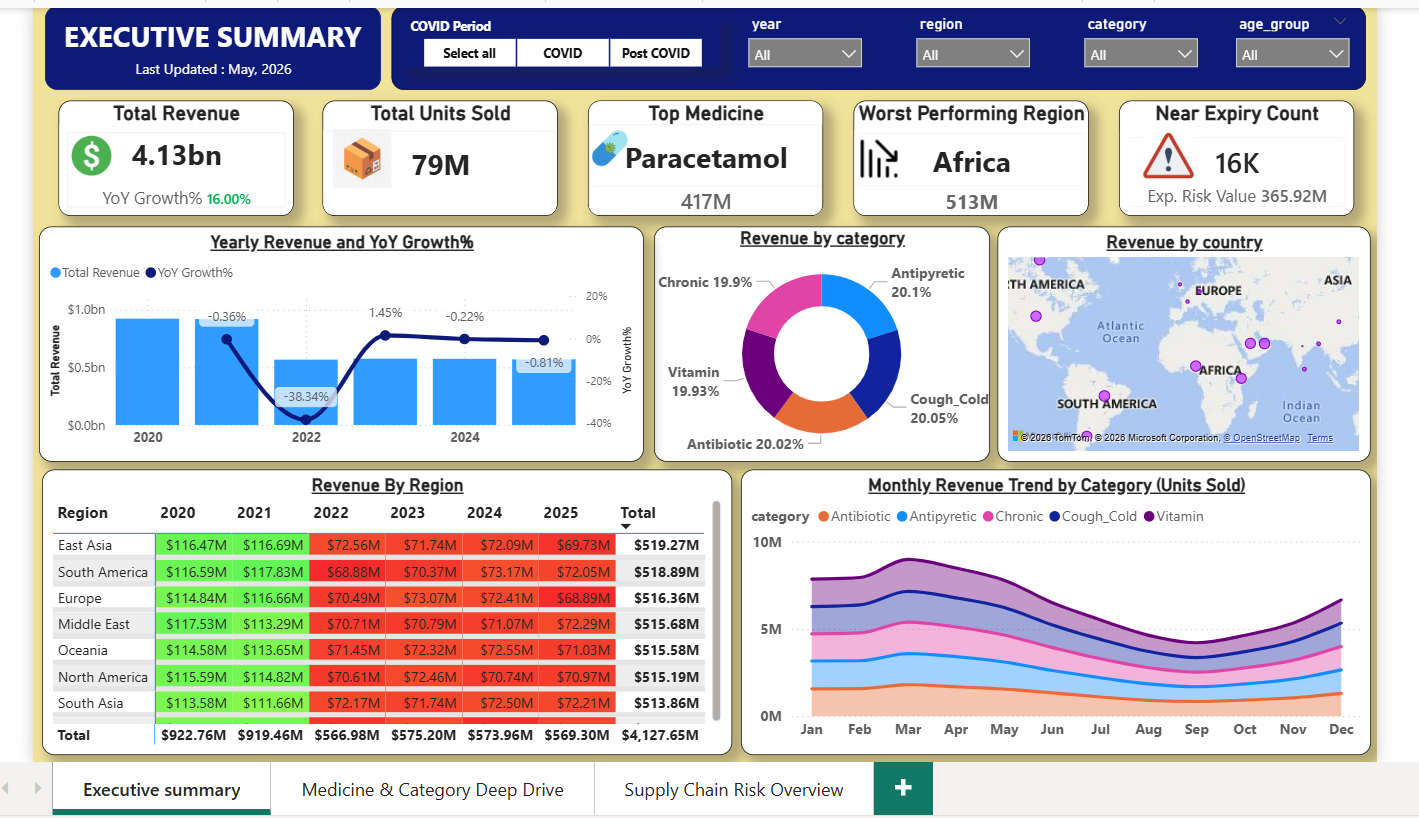

What the dashboard file says about the page in this screenshot:
{"tool":"powerbi","page":{"name":"Executive summary","canvas":[1280,720],"ordinal":0},"visuals":[{"type":"textbox","box":[11,0,320,80],"z":0},{"type":"cardVisual","title":"Total Revenue","fields":{"Data":["global_pharmacy_sales.Total Revenue"]},"box":[24,90,224,110],"z":1000},{"type":"cardVisual","title":"Total Units Sold","fields":{"Data":["Sum(global_pharmacy_sales.units_sold)"]},"box":[275,90,224,110],"z":2000},{"type":"cardVisual","title":"Top Medicine","fields":{"Data":["global_pharmacy_sales.Top Medicine"]},"box":[528,90,224,110],"z":3000},{"type":"cardVisual","title":"Near Expiry Count","fields":{"Data":["global_pharmacy_sales.NearExpiryCount"]},"box":[1034,90,224,110],"z":4000},{"type":"cardVisual","title":"Worst Performing Region","fields":{"Data":["global_pharmacy_sales.Worst Performing Region"]},"box":[782,90,224,110],"z":5000},{"type":"textbox","box":[341,0,928,80],"z":6000},{"type":"slicer","fields":{"Values":["global_pharmacy_sales.year"]},"box":[672,3,128,64],"z":7000},{"type":"slicer","fields":{"Values":["global_pharmacy_sales.COVID Period"]},"box":[352,11,304,48],"z":8000},{"type":"slicer","fields":{"Values":["global_pharmacy_sales.region"]},"box":[832,3,128,64],"z":9000},{"type":"slicer","fields":{"Values":["global_pharmacy_sales.category"]},"box":[992,3,128,64],"z":10000},{"type":"slicer","fields":{"Values":["global_pharmacy_sales.age_group"]},"box":[1136,3,128,64],"z":11000},{"type":"donutChart","title":"Revenue by category","fields":{"Category":["global_pharmacy_sales.category"],"Y":["Sum(global_pharmacy_sales.Revenue)"]},"box":[592,210,320,224],"z":12000},{"type":"map","title":"Revenue by country","fields":{"Category":["global_pharmacy_sales.country"],"Size":["Sum(global_pharmacy_sales.Revenue)"]},"box":[919,210,355,224],"z":13000},{"type":"lineClusteredColumnComboChart","title":"Yearly Revenue and YoY Growth% ","fields":{"Category":["Date Table.Year"],"Y":["Sum(global_pharmacy_sales.Revenue)"],"Y2":["global_pharmacy_sales.YoY Growth%"]},"box":[6,210,576,224],"z":14000},{"type":"pivotTable","title":"Revenue By Region","fields":{"Rows":["global_pharmacy_sales.region"],"Columns":["Date Table.Year"],"Values":["Sum(global_pharmacy_sales.Revenue)"]},"box":[8,442,657,272],"z":15000},{"type":"stackedAreaChart","title":"Monthly Revenue Trend by Category (Units Sold)","fields":{"Y":["Sum(global_pharmacy_sales.units_sold)"],"Series":["global_pharmacy_sales.category"],"Category":["global_pharmacy_sales.Month Name"]},"box":[674,442,600,272],"z":16000},{"type":"image","box":[16,118,80,48],"z":17000},{"type":"image","box":[273,117,81,56],"z":18000},{"type":"image","box":[531,91,36,88],"z":19000},{"type":"image","box":[779,121,53,48],"z":20000},{"type":"image","box":[1042,119,80,48],"z":21000},{"type":"textbox","box":[20,45,304,32],"z":22000}]}

Visuals, with their boxes in screenshot pixels (x1, y1, x2, y2), scaled from the page's 1280x720 canvas onto the 1419x818 screenshot:
textbox: box=[12, 0, 367, 91]
"Total Revenue" cardVisual: box=[27, 102, 275, 227]
"Total Units Sold" cardVisual: box=[305, 102, 553, 227]
"Top Medicine" cardVisual: box=[585, 102, 834, 227]
"Near Expiry Count" cardVisual: box=[1146, 102, 1395, 227]
"Worst Performing Region" cardVisual: box=[867, 102, 1115, 227]
textbox: box=[378, 0, 1407, 91]
slicer - global_pharmacy_sales.year: box=[745, 3, 887, 76]
slicer - global_pharmacy_sales.COVID Period: box=[390, 12, 727, 67]
slicer - global_pharmacy_sales.region: box=[922, 3, 1064, 76]
slicer - global_pharmacy_sales.category: box=[1100, 3, 1242, 76]
slicer - global_pharmacy_sales.age_group: box=[1259, 3, 1401, 76]
"Revenue by category" donutChart: box=[656, 239, 1011, 493]
"Revenue by country" map: box=[1019, 239, 1412, 493]
"Yearly Revenue and YoY Growth% " lineClusteredColumnComboChart: box=[7, 239, 645, 493]
"Revenue By Region" pivotTable: box=[9, 502, 737, 811]
"Monthly Revenue Trend by Category (Units Sold)" stackedAreaChart: box=[747, 502, 1412, 811]
image: box=[18, 134, 106, 189]
image: box=[303, 133, 392, 197]
image: box=[589, 103, 629, 203]
image: box=[864, 137, 922, 192]
image: box=[1155, 135, 1244, 190]
textbox: box=[22, 51, 359, 87]
